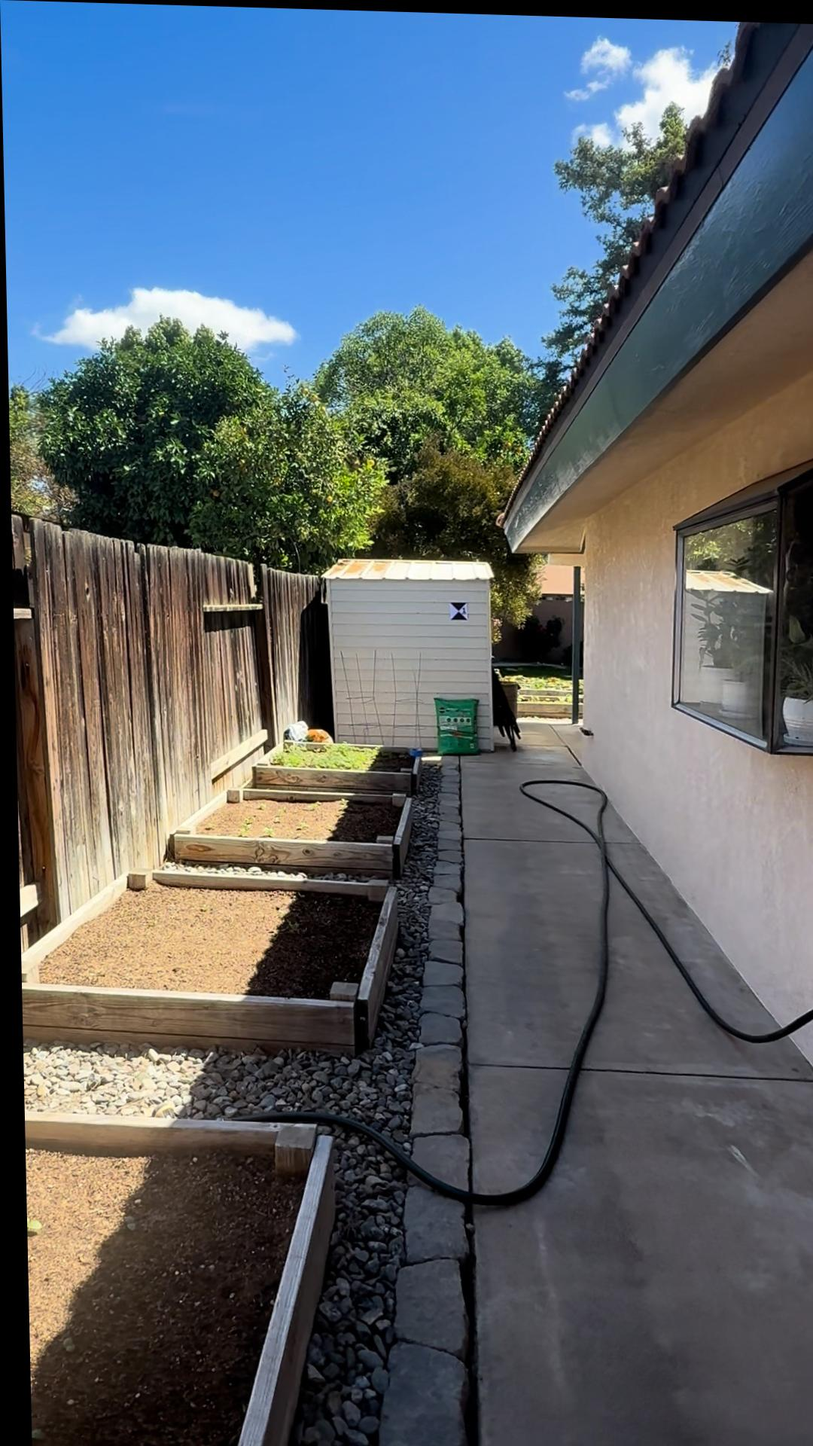target1: (449, 600, 470, 622)
